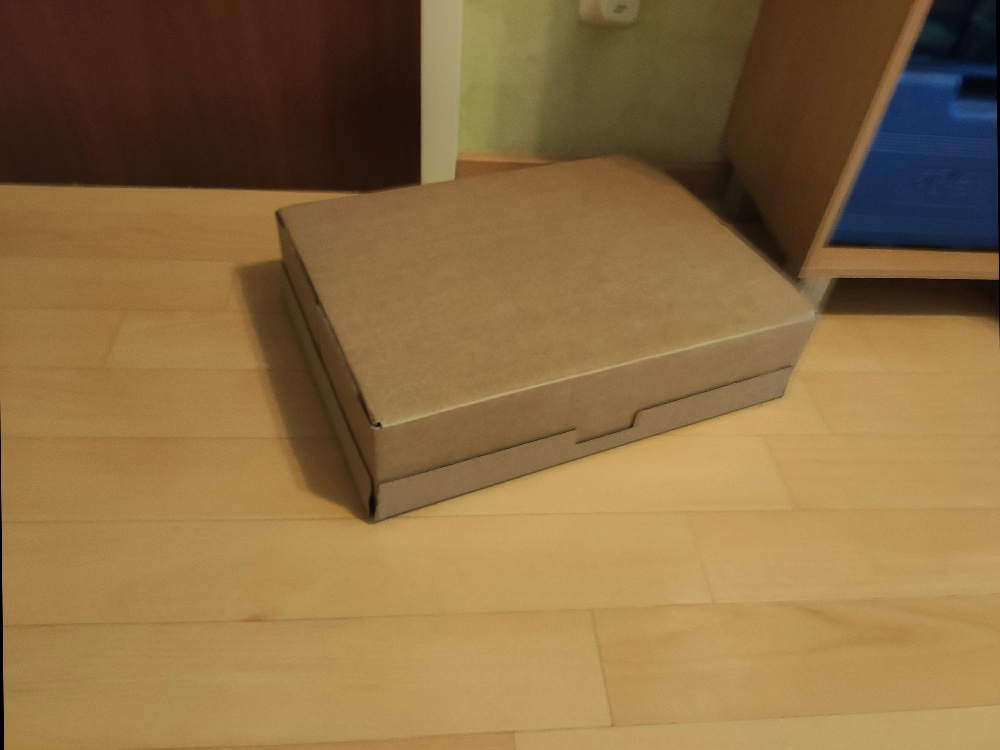good-parcel: (247, 153, 833, 529)
